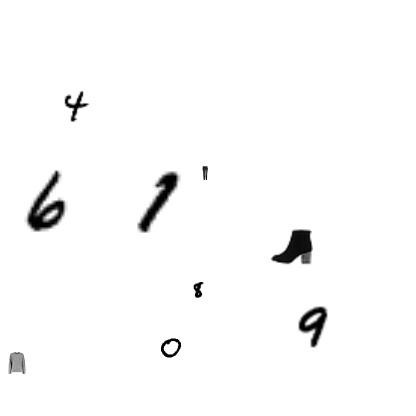0: (156, 333, 184, 361)
1: (117, 157, 201, 241)
4: (53, 84, 95, 126)
6: (4, 165, 88, 249)
8: (187, 278, 209, 300)
9: (285, 295, 341, 351)
Ankle_boot: (271, 225, 313, 267)
Pullover: (6, 352, 28, 374)
Trouser: (198, 166, 212, 180)
